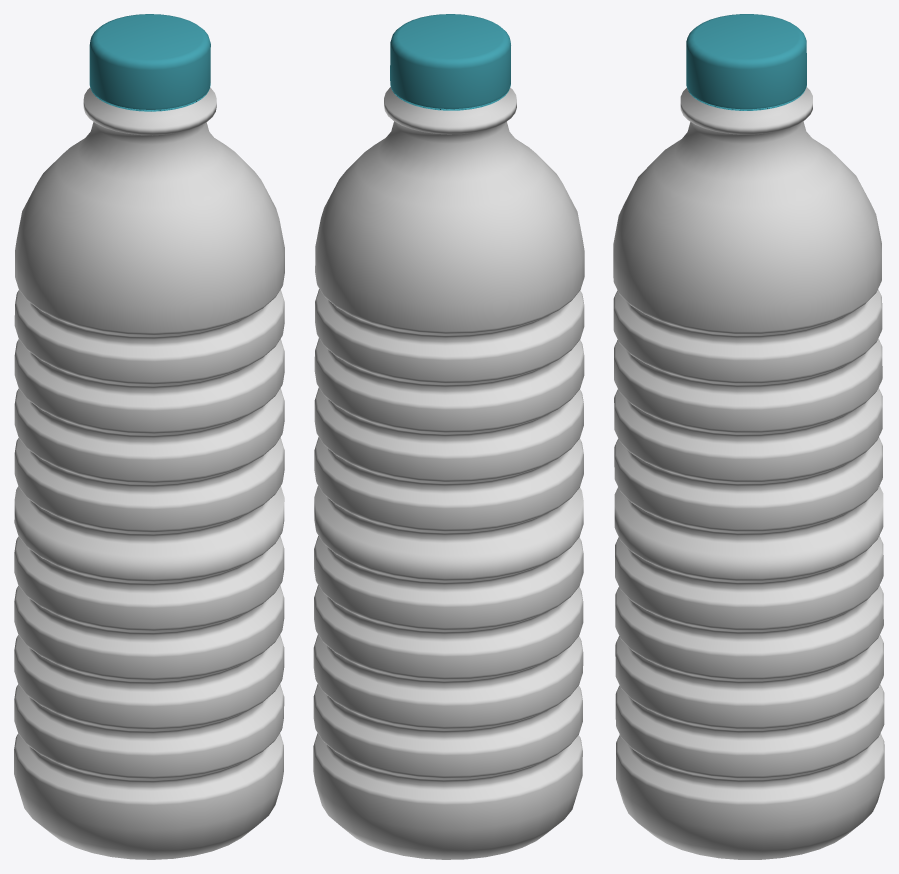
File: bottle.fbx
3 renders of one model, left to right at view 1: azimuth 30°, elevation 25°; view 2: azimuth 150°, elevation 25°; view 3: azimuth 270°, elevation 25°, orthographic.
Parts seen in each view (by area): view 1: Bottle; view 2: Bottle; view 3: Bottle.
Part boxes in pixels (x1,y1,x2,y2): Bottle: [14, 14, 284, 859]; Bottle: [313, 14, 584, 859]; Bottle: [613, 14, 884, 859].
Size of the model in its own units: 899 by 2891 by 907.
